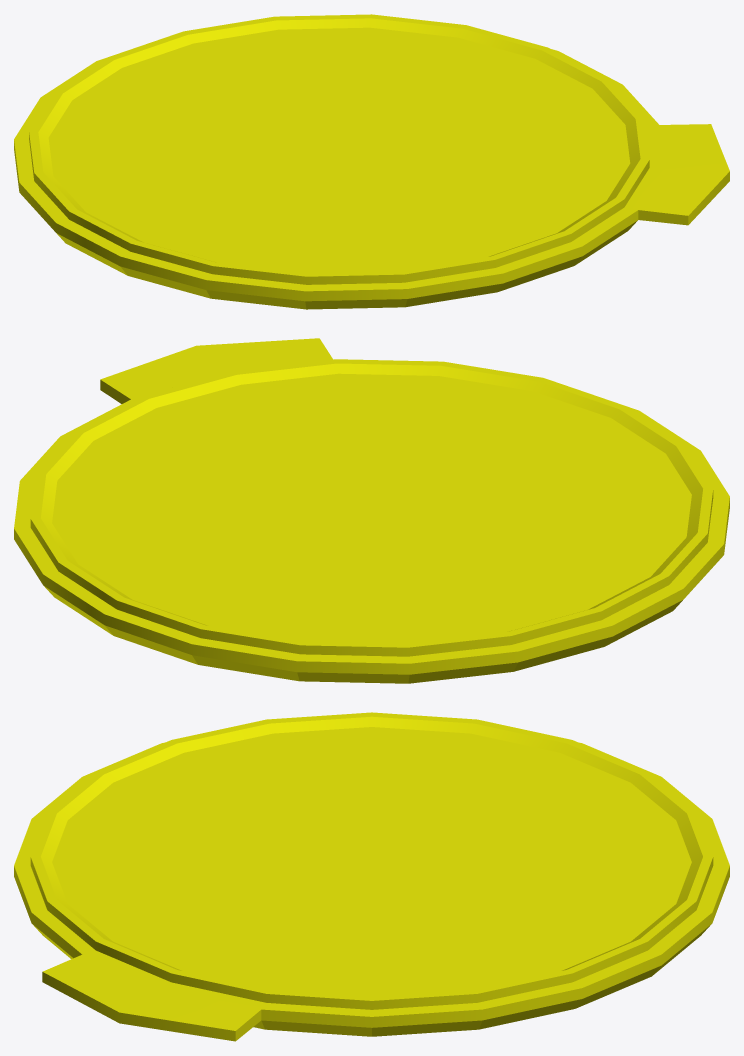
The model's file is Cooking_Tools_02_Lid_Lod0.fbx.
The picture shows the model from 3 angles, top to bottom: view 1: azimuth 30°, elevation 25°; view 2: azimuth 150°, elevation 25°; view 3: azimuth 270°, elevation 25°; orthographic projection. The views are drawn at different scales.
Visible parts, largest first — view 1: Cooking_Tools_02_Lid_Lod0; view 2: Cooking_Tools_02_Lid_Lod0; view 3: Cooking_Tools_02_Lid_Lod0.
Boxes of the visible parts, x1,y1,x2,y2 form: Cooking_Tools_02_Lid_Lod0: (14,14,729,309); Cooking_Tools_02_Lid_Lod0: (14,338,729,683); Cooking_Tools_02_Lid_Lod0: (14,712,729,1041).
Size of the model in its own units: 26.77 by 1.34 by 25.59.
